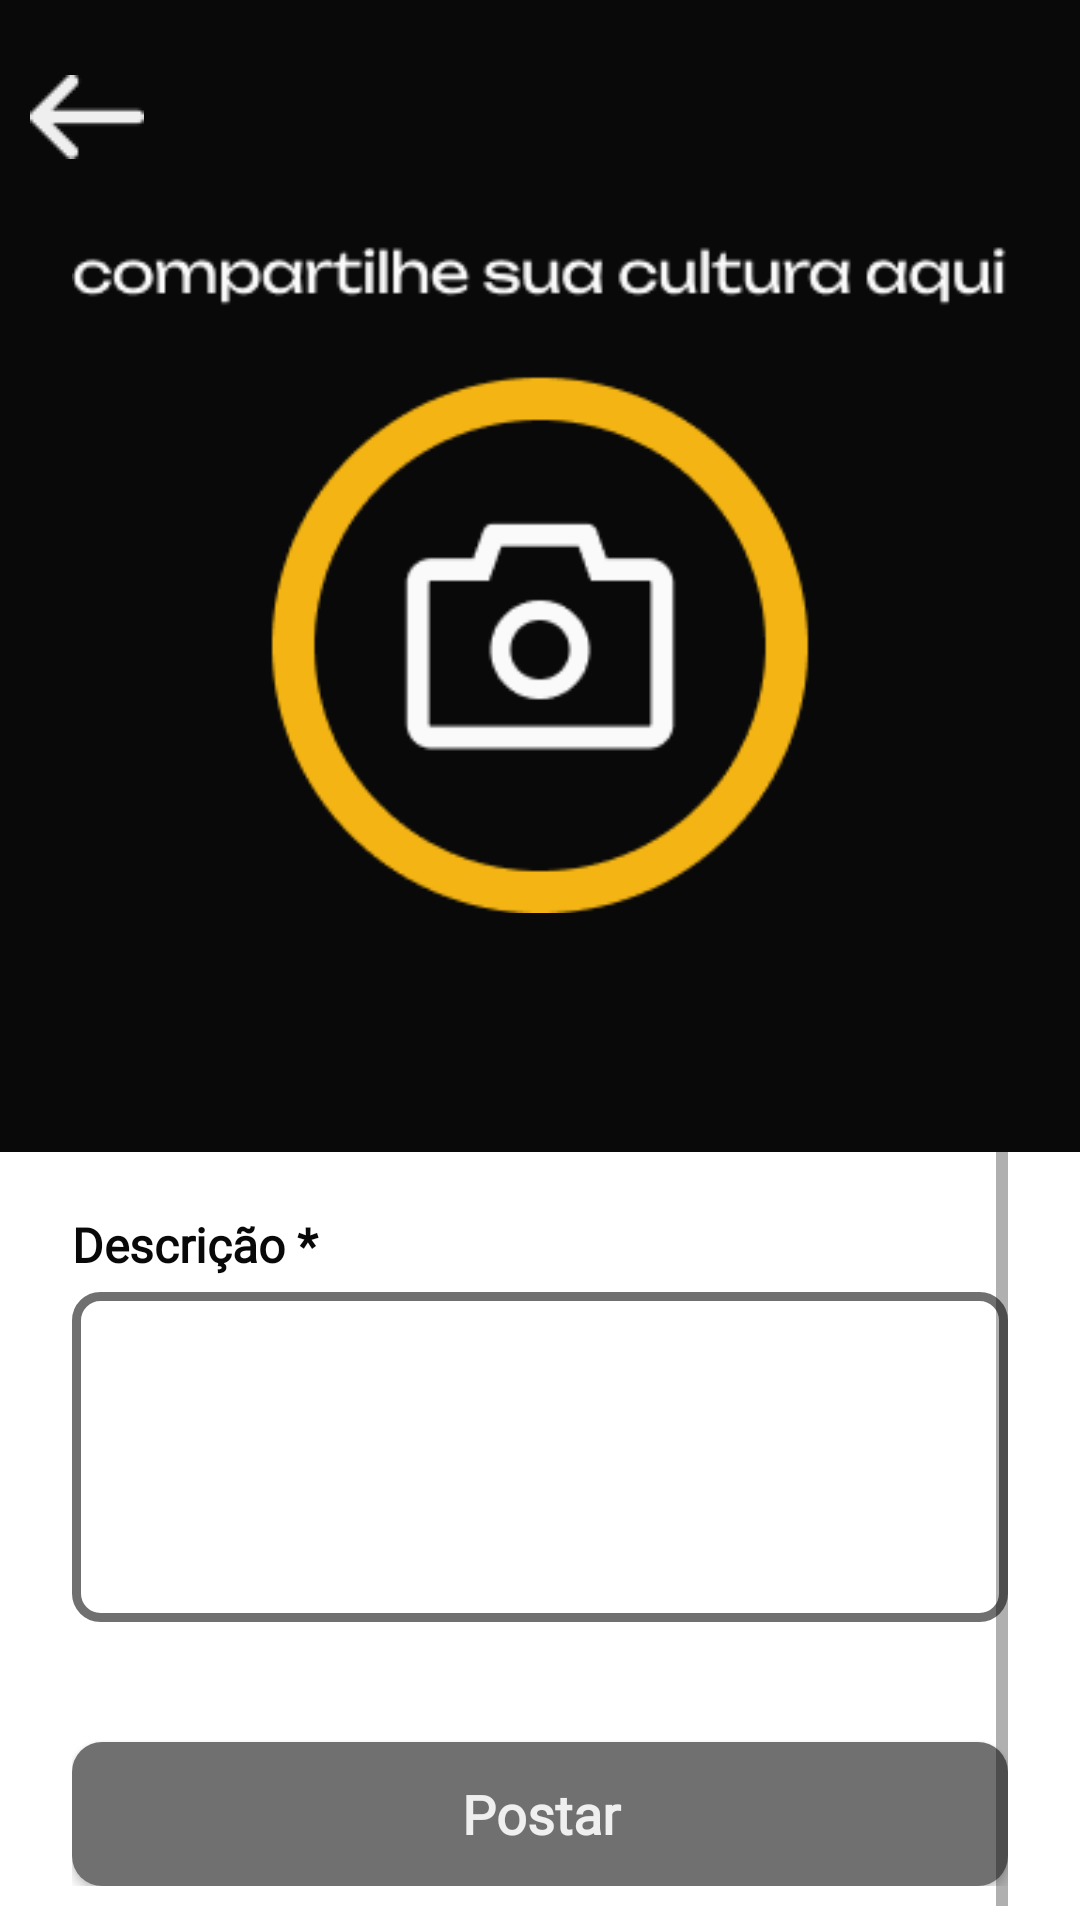

Named icons in this screenshot (1080x1920) and their bounding boxes, {"x1": x1, "y1": y1, "x2": x2, "y2": y2}:
left arrow: {"x1": 30, "y1": 75, "x2": 144, "y2": 159}
